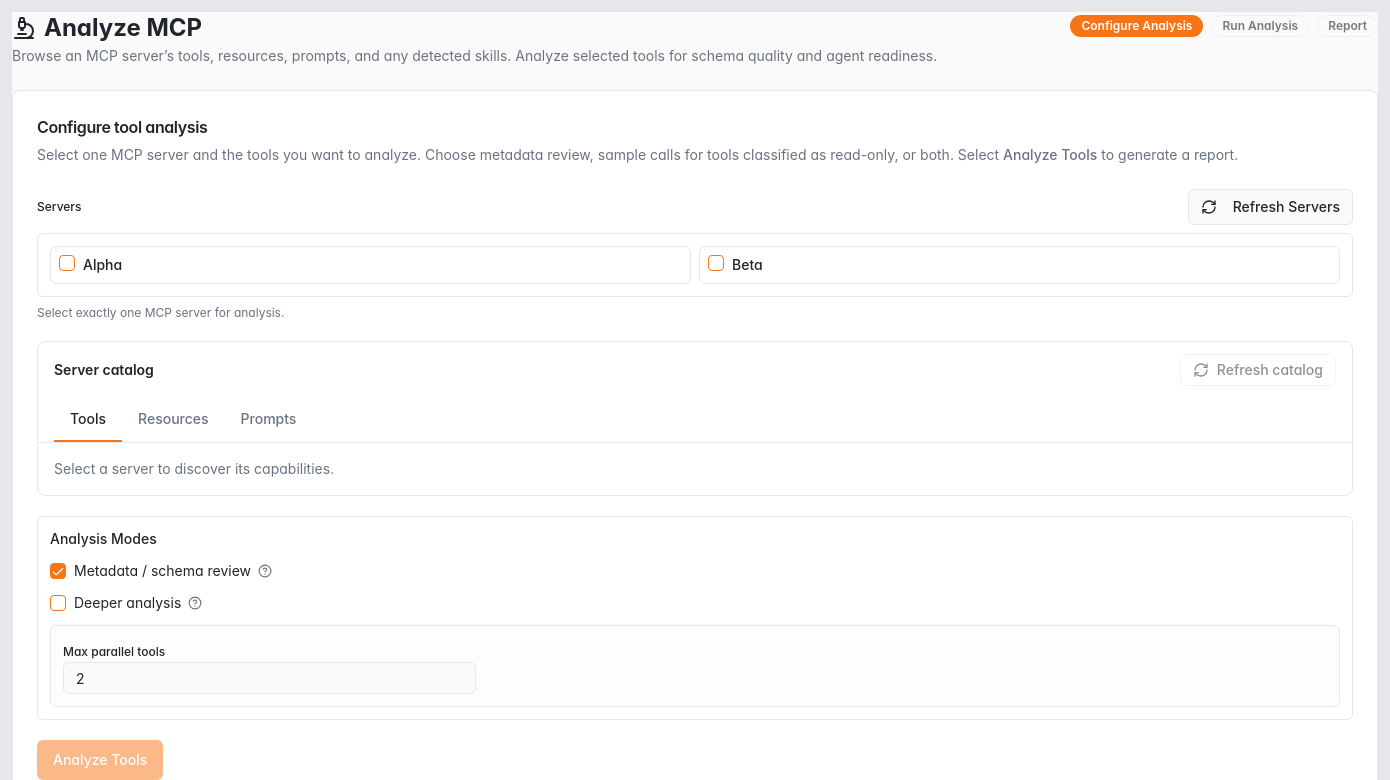
Analyze MCP catalog › discards stale discovery and shows unsupported capabilities for the selected server
Click the checkbox named "Alpha" next to "Alpha" at x=67, y=263, box [59,255,75,271]
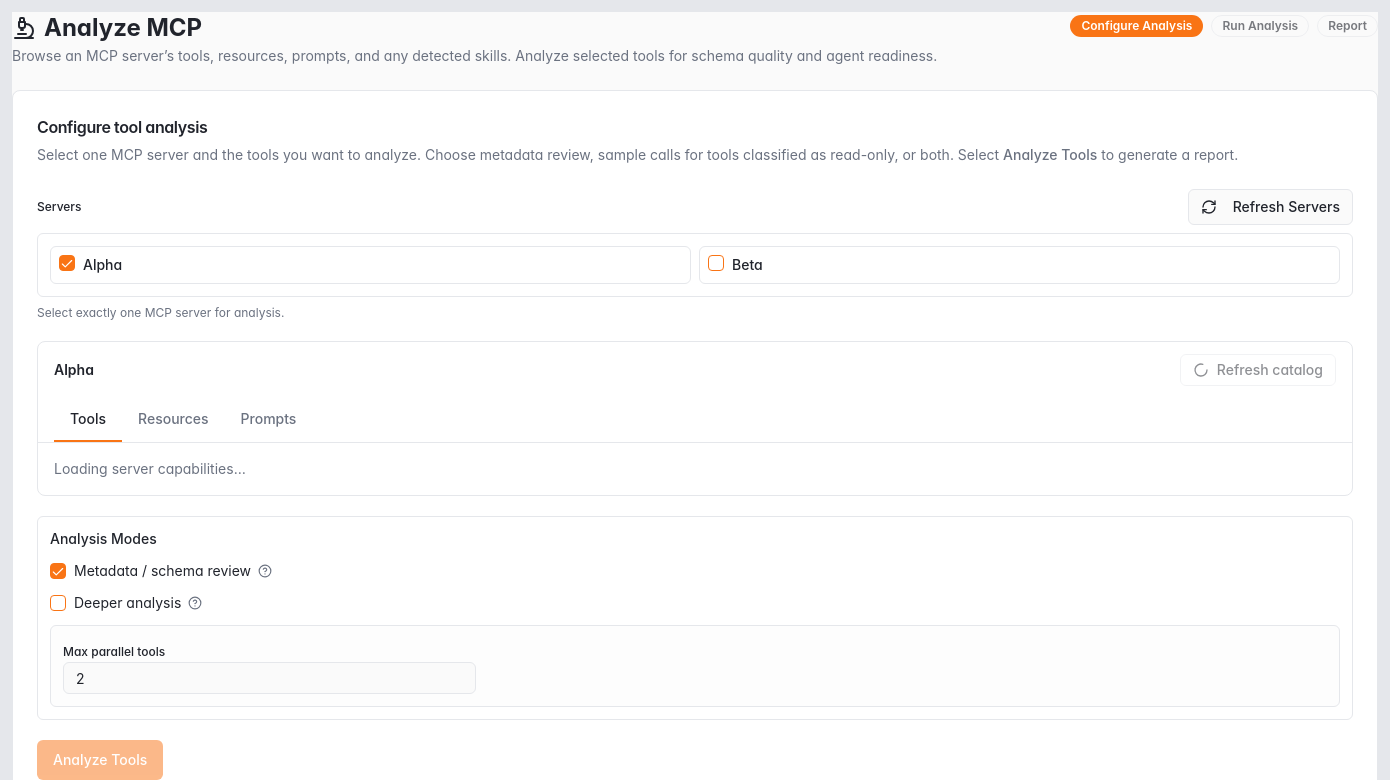
Click the checkbox named "Beta" next to "Beta" at x=716, y=263, box [708,255,724,271]
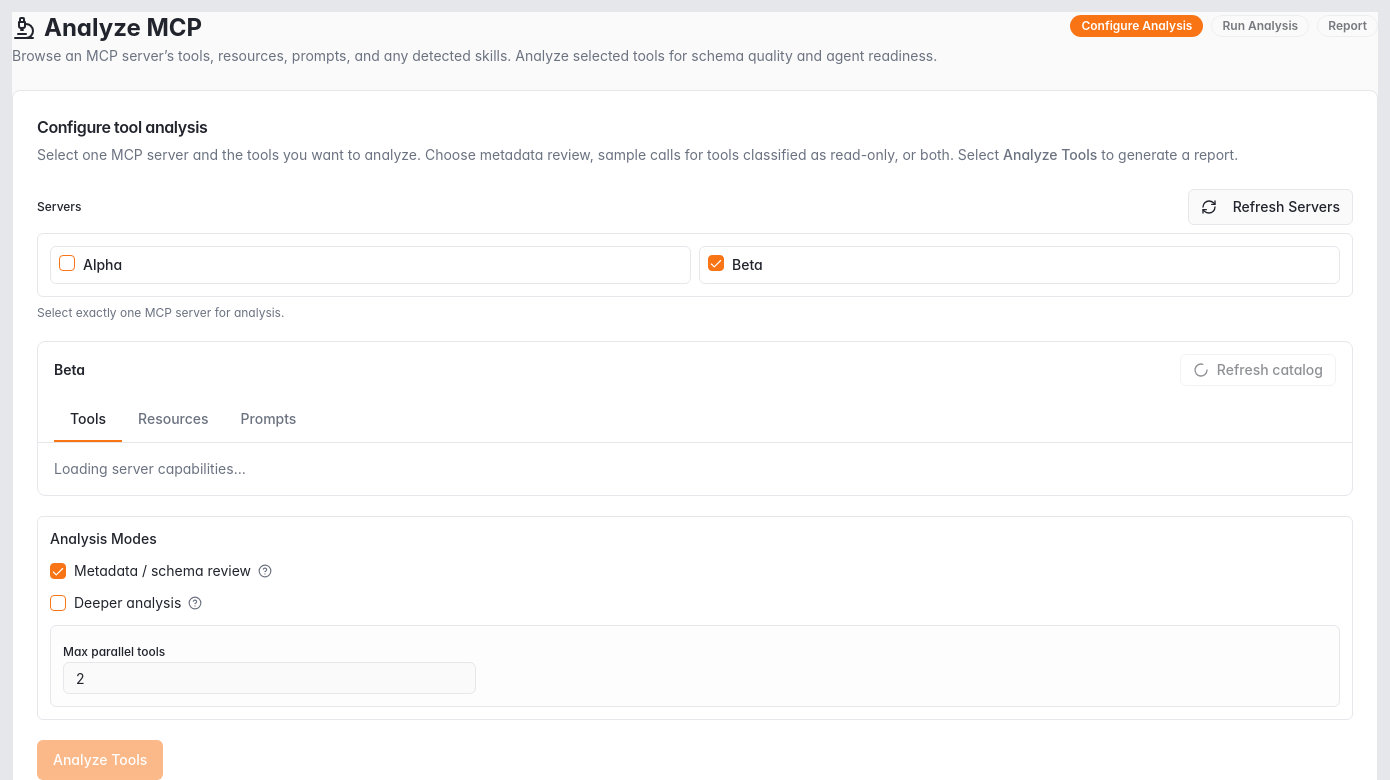
Press Enter in the tab "Resources", box [122,398,224,442]
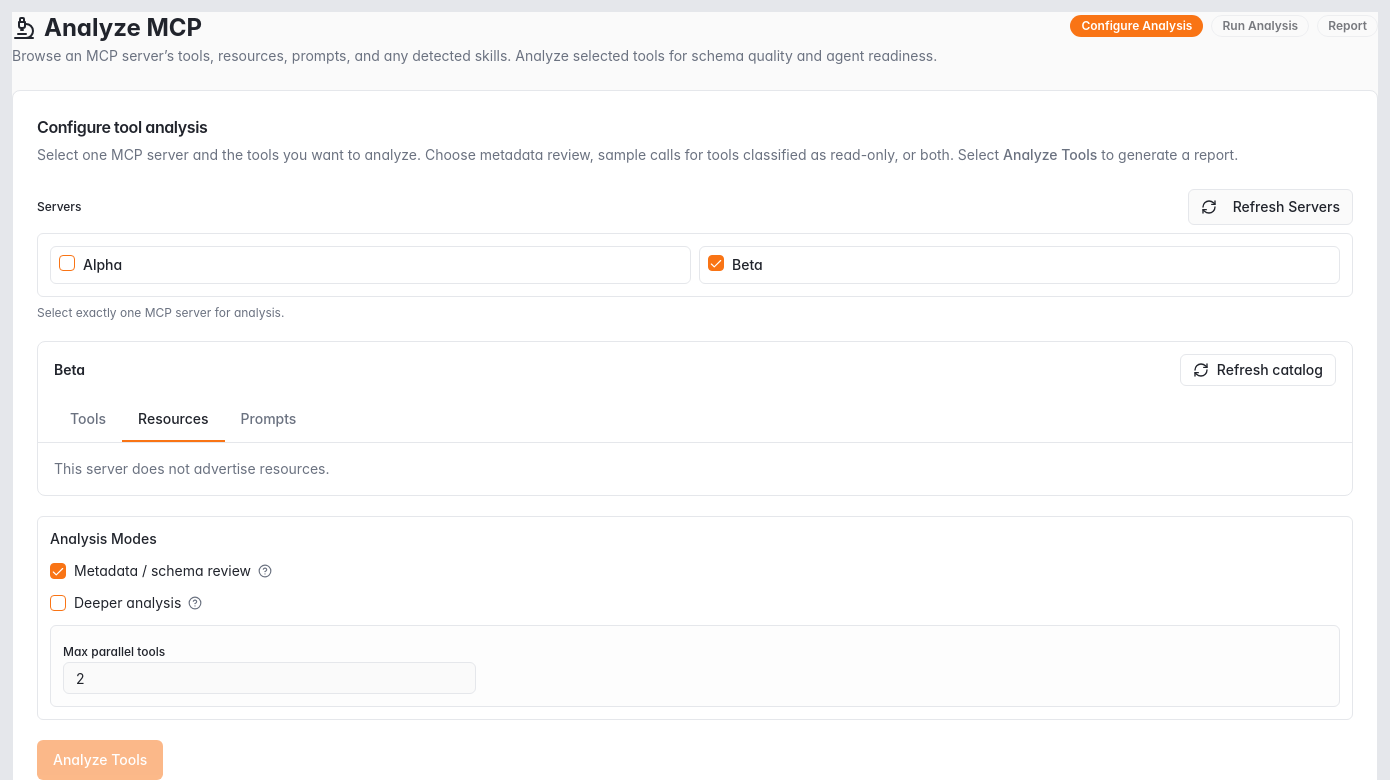
Expected: the text "This server does not advertise resources." is shown, [54,460,330,477]
